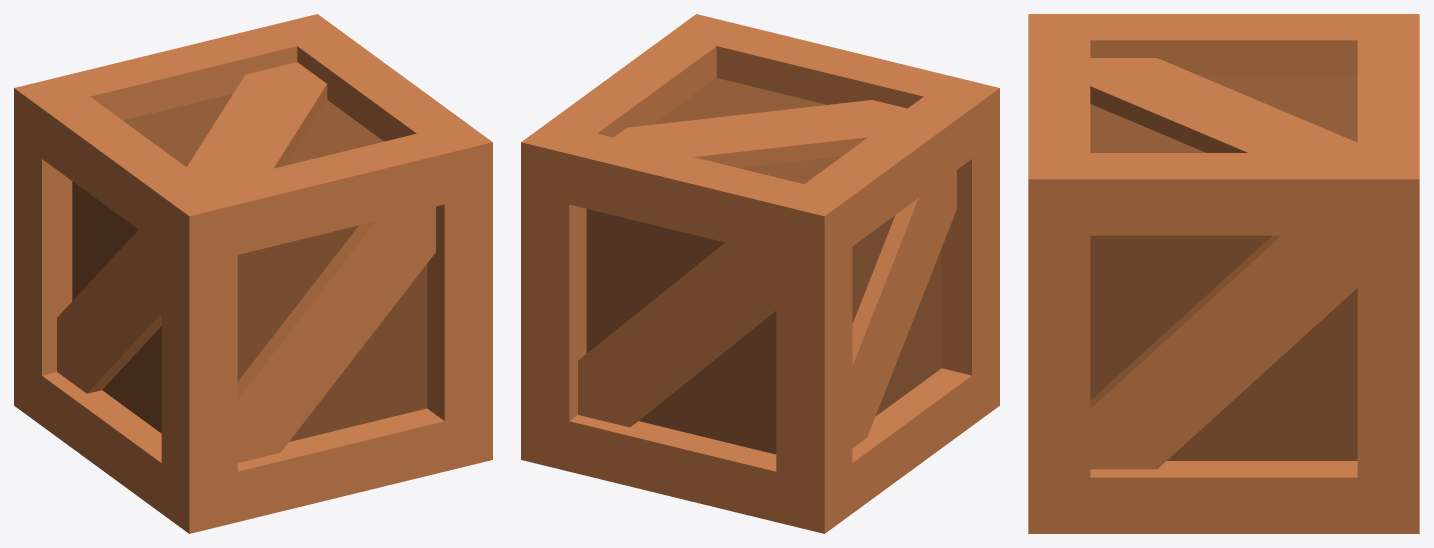
Rendered from crate.obj.
3 renders of one model, left to right at view 1: azimuth 30°, elevation 25°; view 2: azimuth 150°, elevation 25°; view 3: azimuth 270°, elevation 25°, orthographic. The views are drawn at different scales.
Visible parts, largest first — view 1: crate; view 2: crate; view 3: crate.
Part boxes in pixels (x1=…): crate: x1=14, y1=14, x2=492, y2=533; crate: x1=521, y1=14, x2=999, y2=533; crate: x1=1028, y1=14, x2=1419, y2=533.
Bounding box in the file's own units: 0.5 × 0.5 × 0.5.
